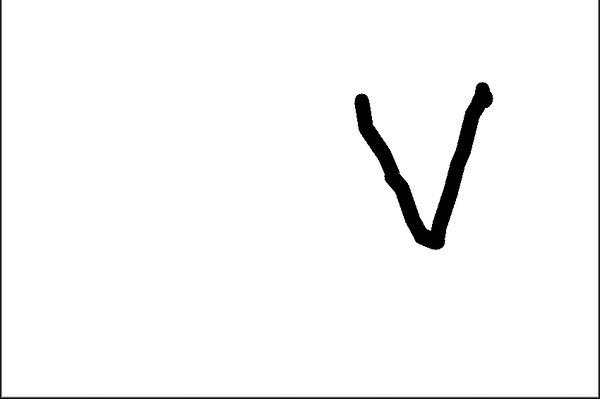V: (352, 74, 497, 255)
